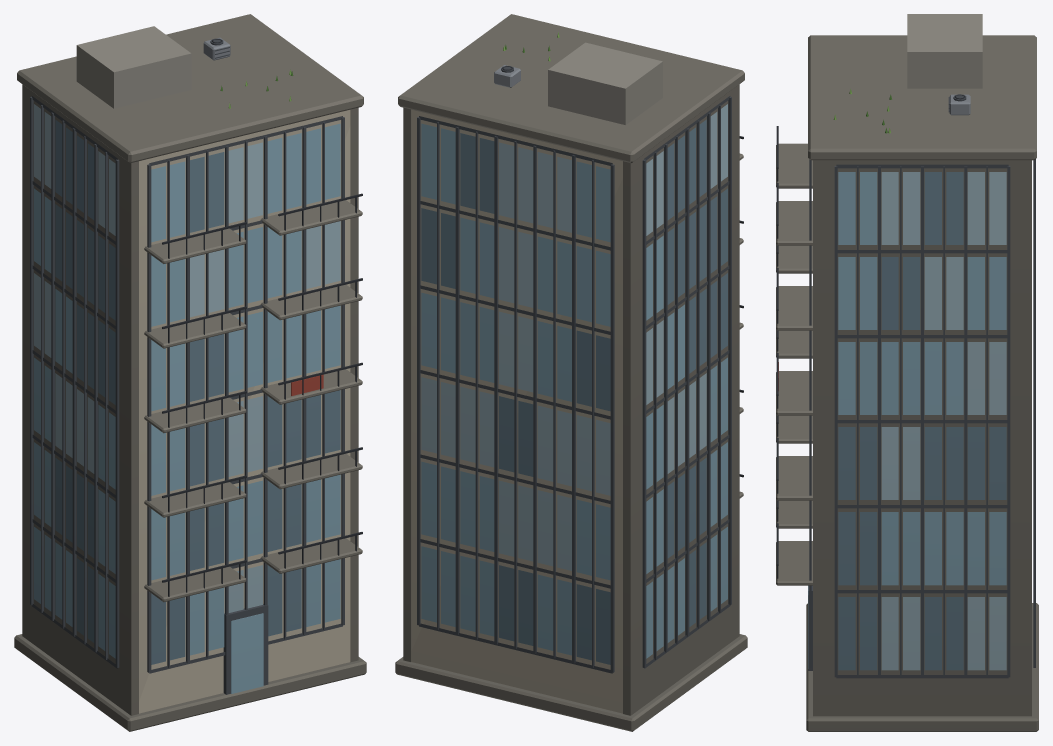
File: condo_midrise_01.glb
3 renders of one model, left to right at view 1: azimuth 30°, elevation 25°; view 2: azimuth 150°, elevation 25°; view 3: azimuth 270°, elevation 25°, orthographic.
Visible parts, largest first — view 1: condo_midrise_01; view 2: condo_midrise_01; view 3: condo_midrise_01.
Part boxes in pixels (box(x1,y1,x2,y2)): condo_midrise_01: box(14, 14, 366, 731); condo_midrise_01: box(395, 14, 747, 731); condo_midrise_01: box(776, 14, 1038, 731).
Bounding box in the file's own units: 7.4 × 18.2 × 7.
